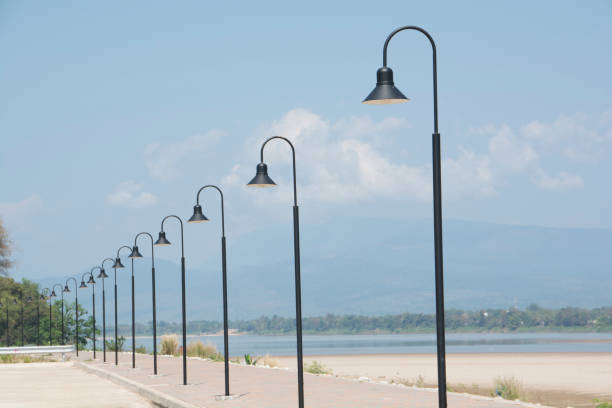light_pole: (431, 97, 452, 407), (290, 203, 306, 406), (218, 236, 232, 398), (176, 256, 190, 384), (150, 262, 162, 370), (129, 278, 137, 367)
